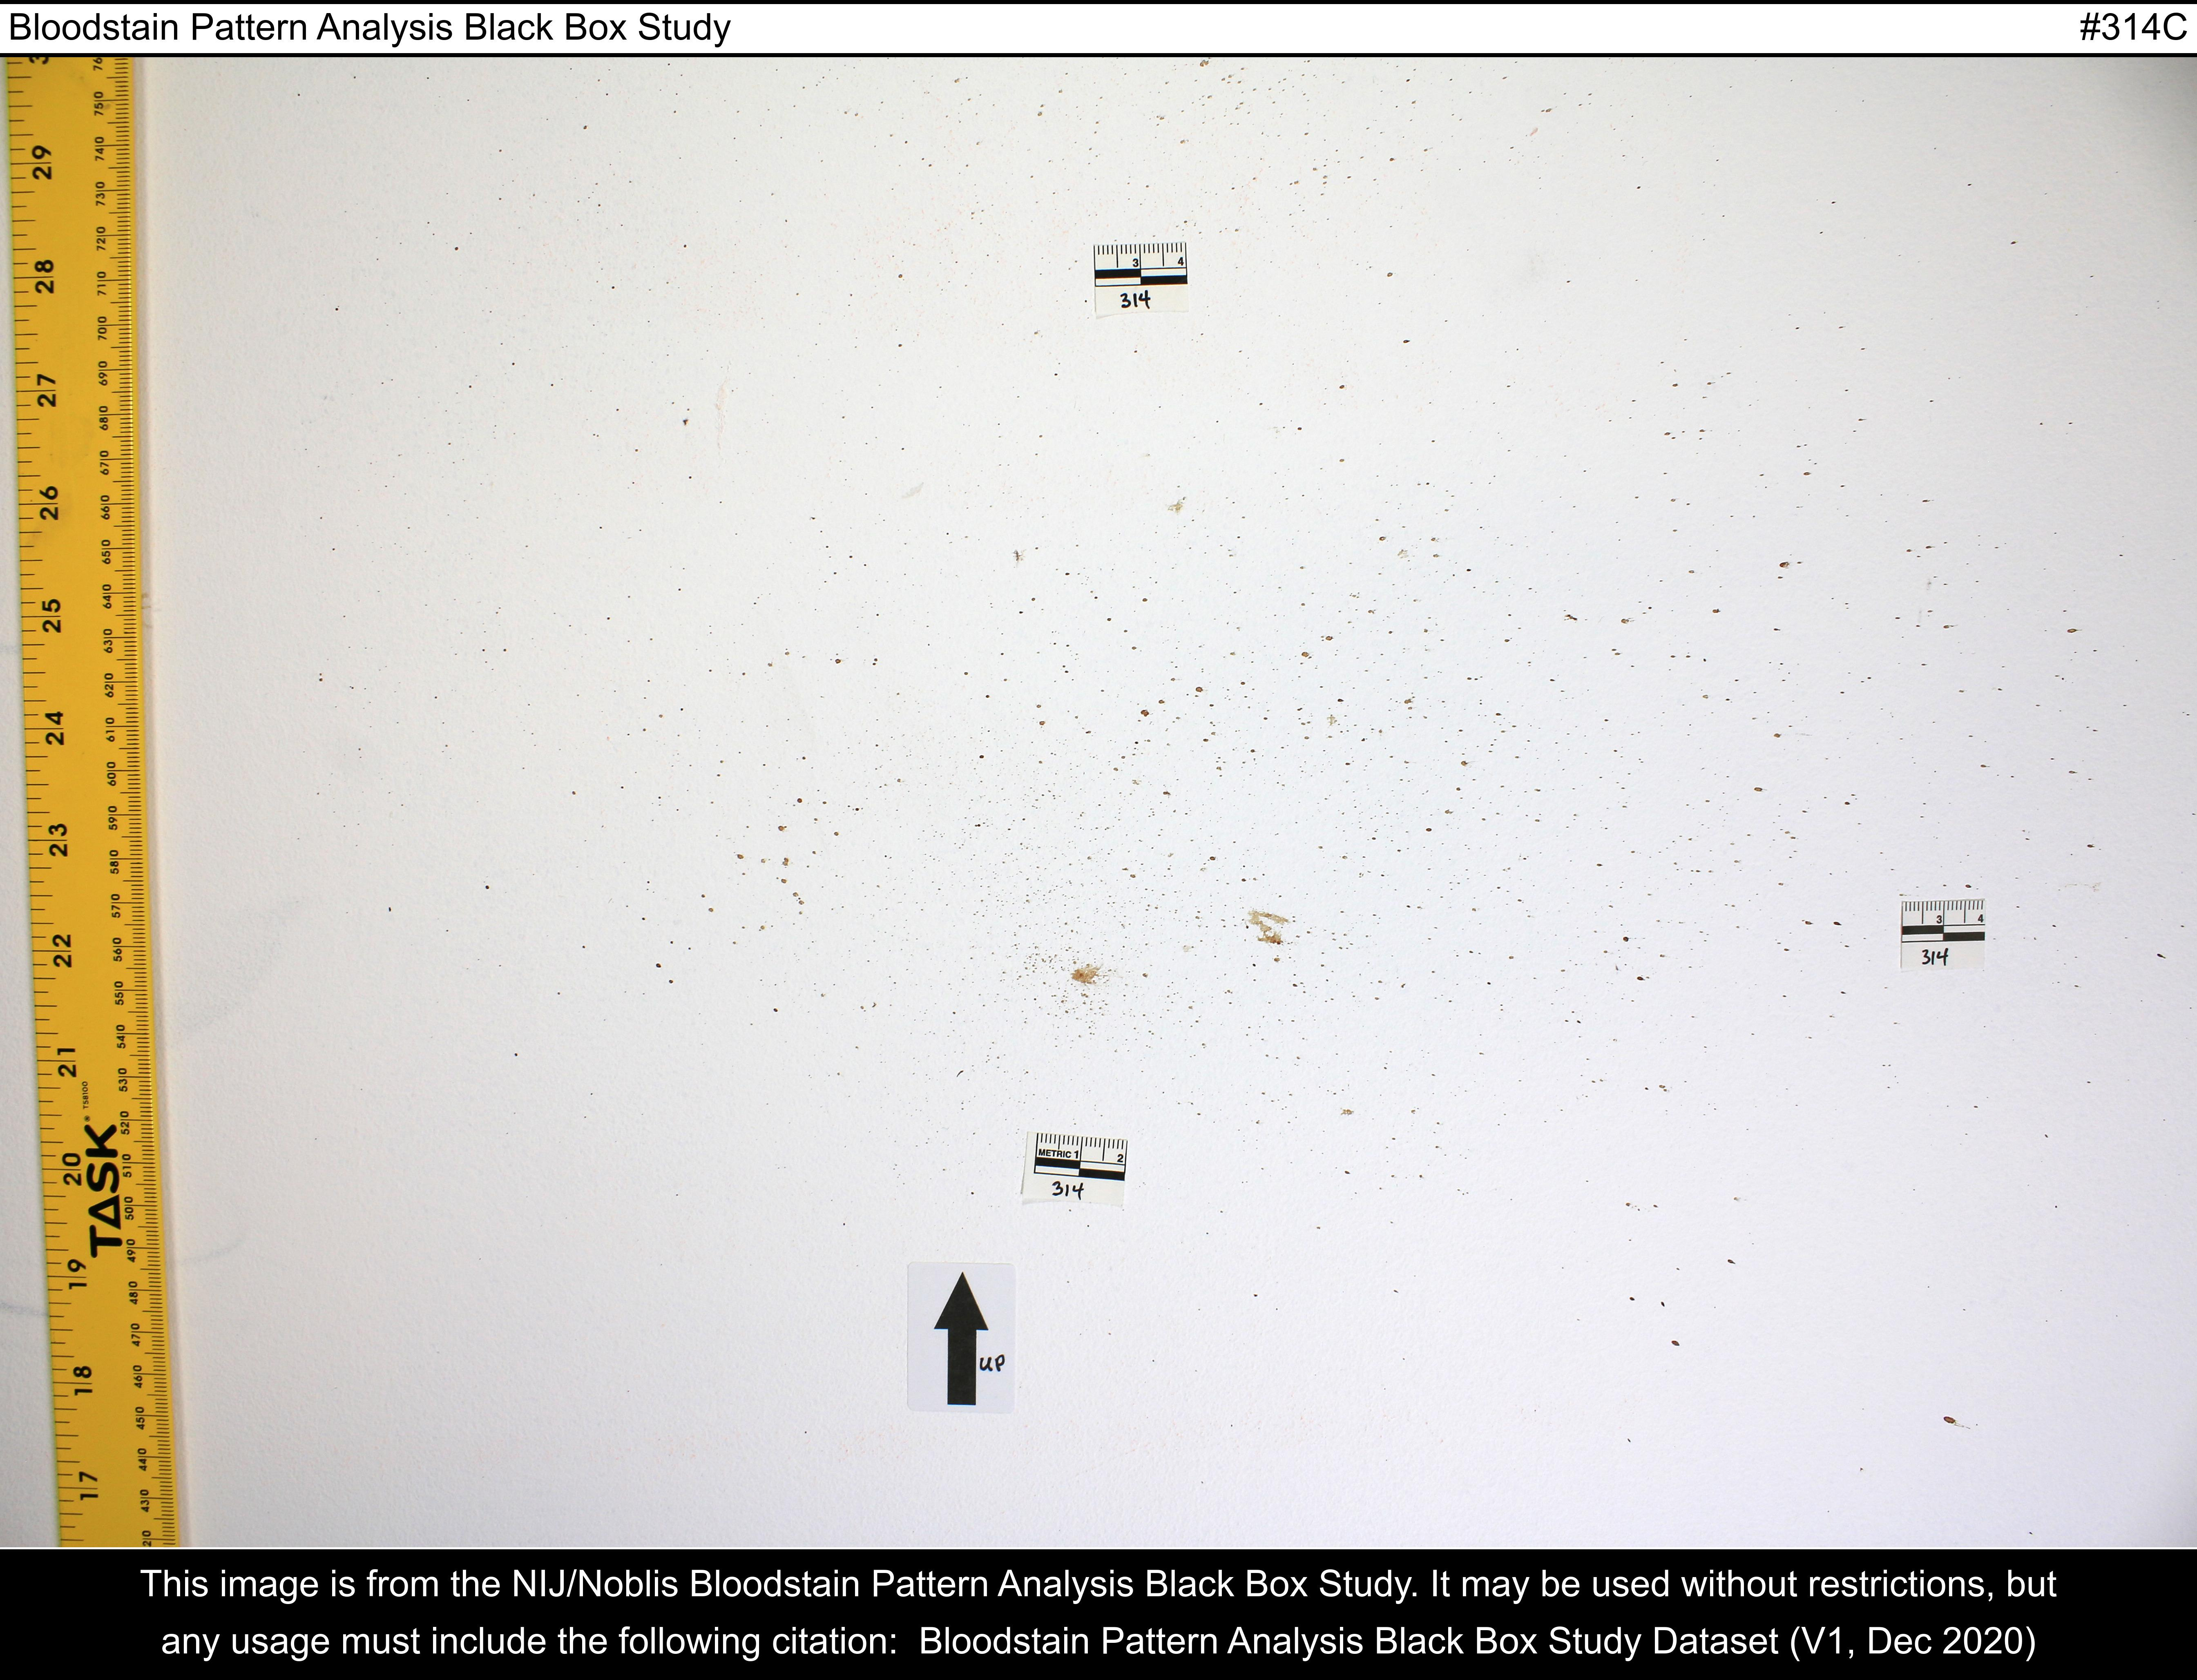Impact: (544, 385, 1885, 1099)
